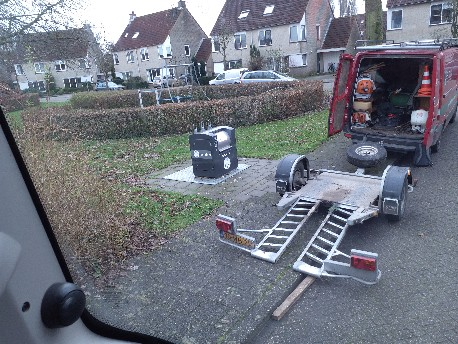Container: (195, 124, 245, 182)
